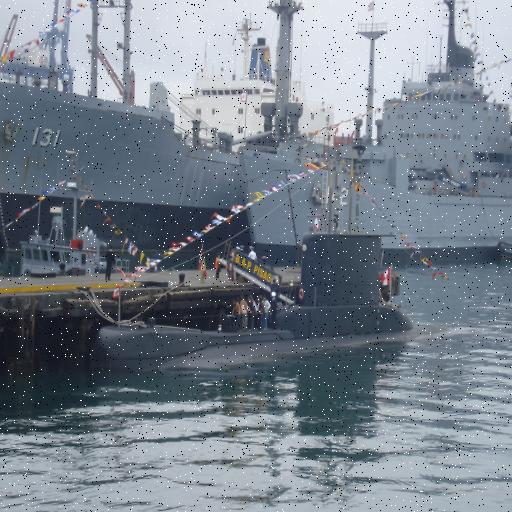submarine: (100, 229, 408, 389)
